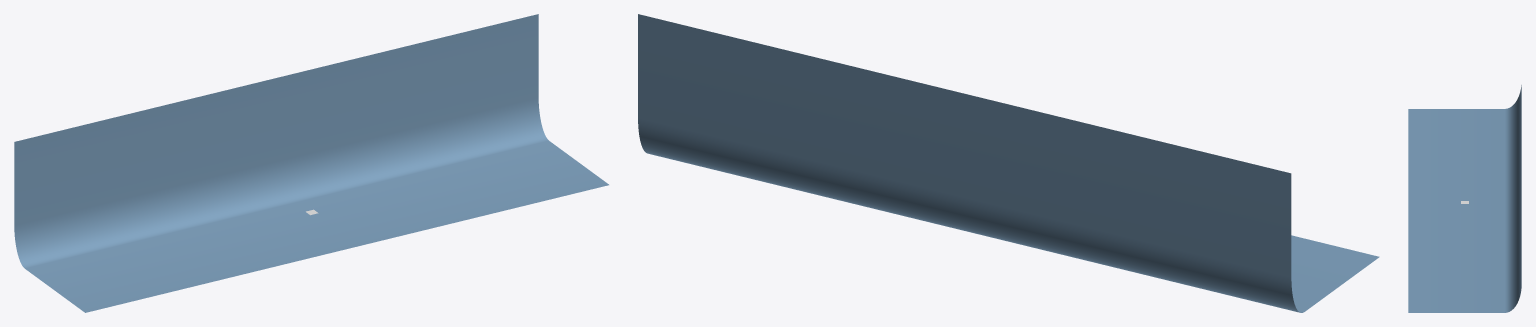
The picture shows the model from 3 angles, left to right: view 1: azimuth 30°, elevation 25°; view 2: azimuth 150°, elevation 25°; view 3: azimuth 270°, elevation 25°; orthographic projection. The views are drawn at different scales.
Parts seen in each view (by area): view 1: BG; view 2: BG; view 3: BG.
Part boxes in pixels (left/top/right/bottom): BG: left=14, top=14, right=608, bottom=312; BG: left=638, top=14, right=1379, bottom=312; BG: left=1408, top=85, right=1521, bottom=312.
Bounding box in the file's own units: 125 × 27.02 × 29.24.
